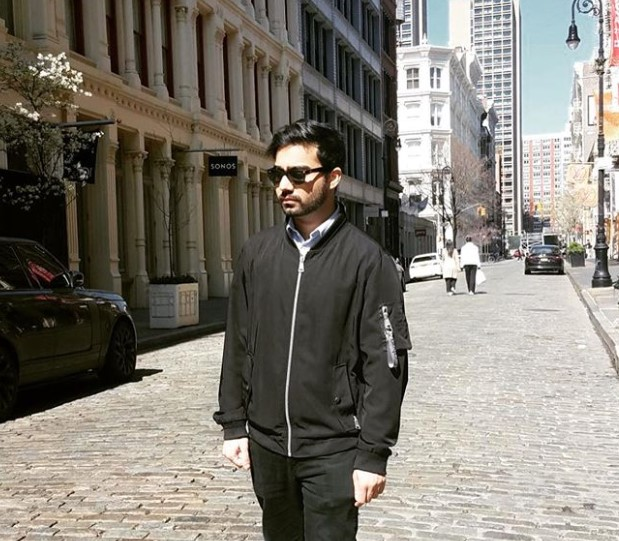face_no_mask: (271, 128, 332, 220)
